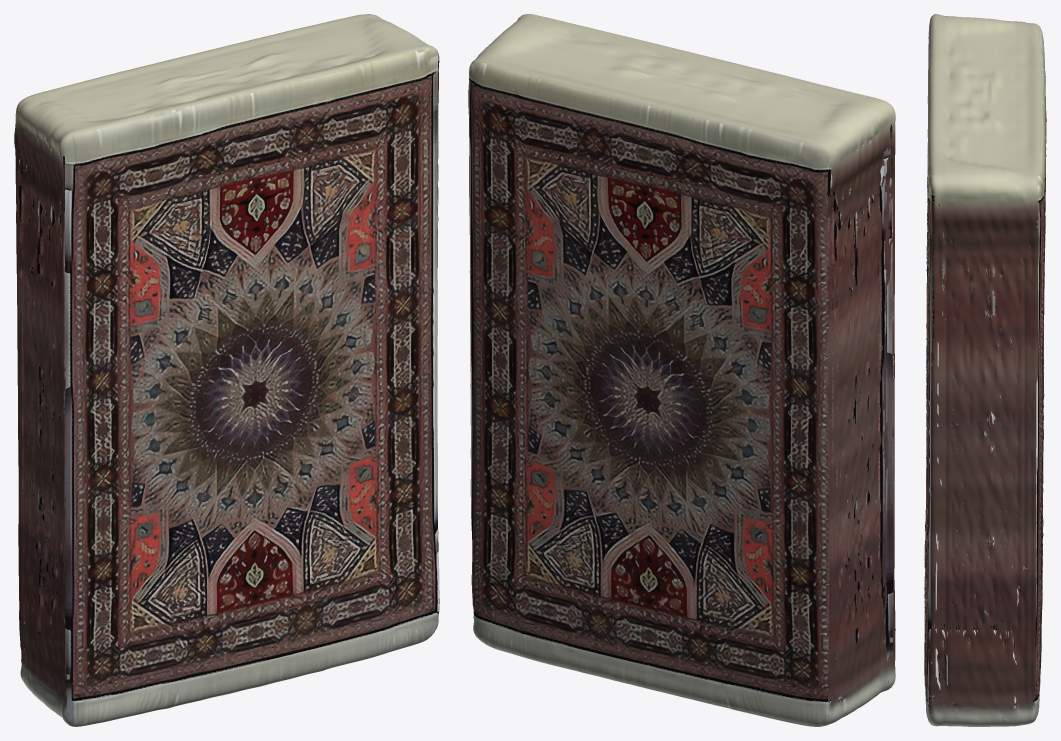
The model's file is kfl-2162.glb.
3 renders of one model, left to right at view 1: azimuth 30°, elevation 25°; view 2: azimuth 150°, elevation 25°; view 3: azimuth 270°, elevation 25°, orthographic. The views are drawn at different scales.
Parts seen in each view (by area): view 1: kfl-2162; view 2: kfl-2162; view 3: kfl-2162.
Boxes of the visible parts, bbox=[...] form: kfl-2162: bbox=[14, 14, 439, 726]; kfl-2162: bbox=[468, 14, 895, 726]; kfl-2162: bbox=[924, 14, 1046, 726].
Size of the model in its own units: 0.6615 by 0.9962 by 0.1985.
4 materials, 4 textured.
